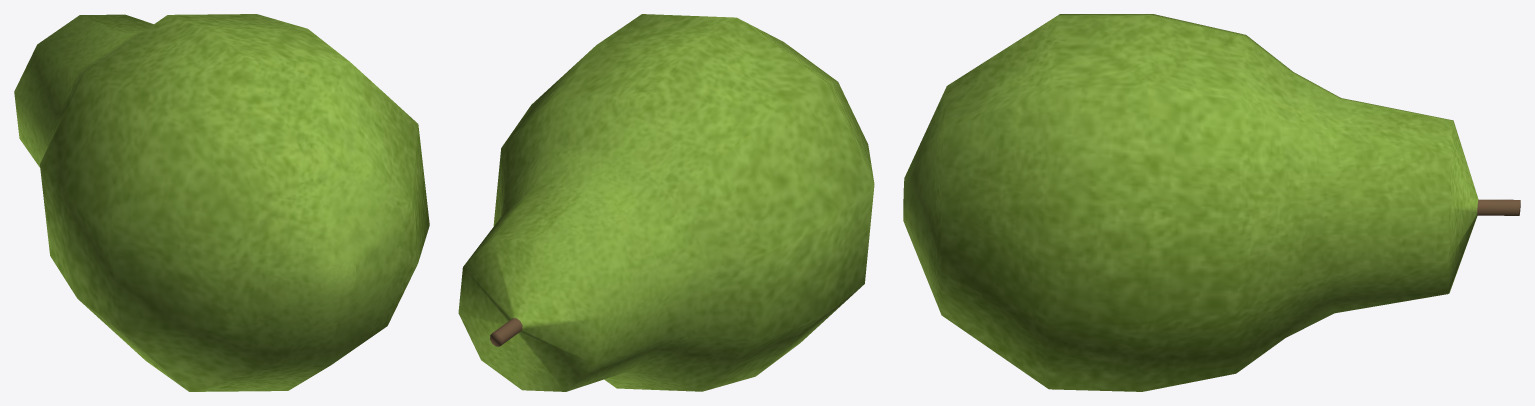
The model's file is pera.glb.
3 views of the same model, side by side, from view 1: azimuth 30°, elevation 25°; view 2: azimuth 150°, elevation 25°; view 3: azimuth 270°, elevation 25° (orthographic). The views are drawn at different scales.
Visible parts, largest first — view 1: pera.002_Cylinder.013; view 2: pera.002_Cylinder.013; view 3: pera.002_Cylinder.013.
Part boxes in pixels (x1,y1,x2,y2): pera.002_Cylinder.013: (14,14,429,391); pera.002_Cylinder.013: (458,14,874,391); pera.002_Cylinder.013: (903,14,1520,391).
Bounding box in the file's own units: 0.1601 × 0.1626 × 0.2553.
1 material, 1 textured.
